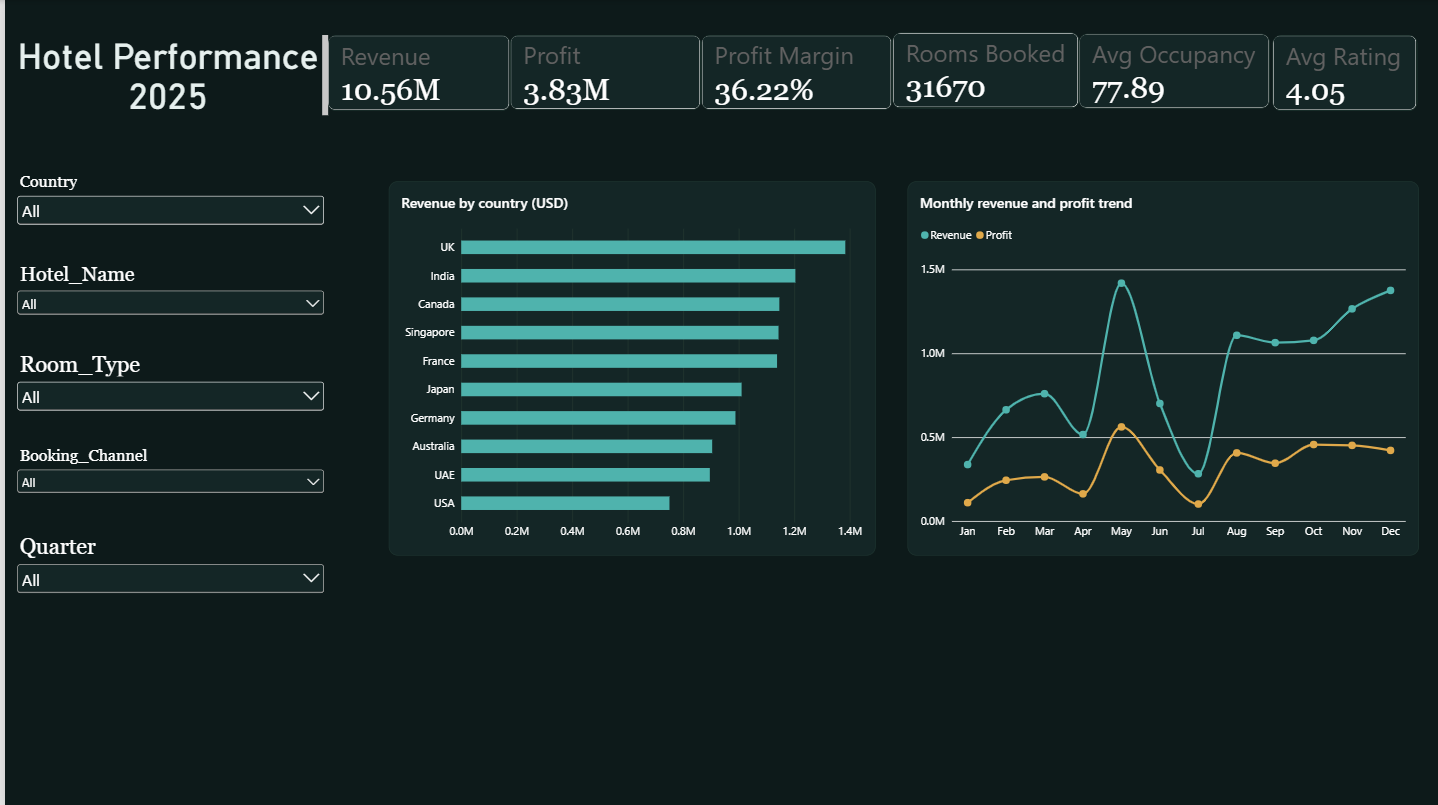

This screenshot's page, from the dashboard's own definition file:
{"tool":"powerbi","page":{"name":"Revenue overview","canvas":[1920,1080],"ordinal":0},"visuals":[{"type":"slicer","fields":{"Values":["Hotels.Country"]},"box":[10.9,229.8,419,97],"z":0},{"type":"slicer","fields":{"Values":["Hotels.Hotel_Name"]},"box":[10.9,351.1,419,97],"z":1000},{"type":"slicer","fields":{"Values":["Hotels.Room_Type"]},"box":[10.9,468.7,419,97],"z":2000},{"type":"slicer","fields":{"Values":["Hotels.Booking_Channel"]},"box":[10.9,595.4,419,97],"z":3000},{"type":"slicer","fields":{"Values":["Hotels.Quarter"]},"box":[10.9,713,419,97],"z":4000},{"type":"cardVisual","fields":{"Data":["Hotels.Total Revenue"]},"box":[430.7,47.1,244.3,101.3],"z":5000},{"type":"cardVisual","fields":{"Data":["Hotels.Total Profit"]},"box":[675,47.1,255,100],"z":6000},{"type":"cardVisual","fields":{"Data":["Hotels.Profit Margin"]},"box":[930.2,47.1,255,100],"z":7000},{"type":"cardVisual","fields":{"Data":["Hotels.Rooms Booked"]},"box":[1185.3,43.4,249.7,101.3],"z":8000},{"type":"cardVisual","fields":{"Data":["Hotels.Avg Occupancy"]},"box":[1435.1,45.2,255,100],"z":9000},{"type":"cardVisual","fields":{"Data":["Hotels.Avg Rating"]},"box":[1693.8,47.1,193.6,101.3],"z":10000},{"type":"clusteredBarChart","title":"Revenue by country (USD)","fields":{"Category":["Hotels.Country"],"Y":["Hotels.Total Revenue"]},"box":[512.1,242.5,650,500],"z":11000},{"type":"lineChart","title":"Monthly revenue and profit trend","fields":{"Category":["Hotels.Month_Name"],"Y":["Hotels.Total Revenue","Hotels.Total Profit"]},"box":[1205.2,242.5,683,500],"z":12000},{"type":"textbox","box":[10.9,47.1,419.8,117.6],"z":12001}]}

Visuals, with their boxes in screenshot pixels (x1, y1, x2, y2), scaled from the page's 1920x1080 canvas onto the 1438x805 screenshot:
slicer - Hotels.Country: detection(8, 171, 322, 244)
slicer - Hotels.Hotel_Name: detection(8, 262, 322, 334)
slicer - Hotels.Room_Type: detection(8, 349, 322, 422)
slicer - Hotels.Booking_Channel: detection(8, 444, 322, 516)
slicer - Hotels.Quarter: detection(8, 531, 322, 604)
cardVisual - Hotels.Total Revenue: detection(323, 35, 506, 111)
cardVisual - Hotels.Total Profit: detection(506, 35, 697, 110)
cardVisual - Hotels.Profit Margin: detection(697, 35, 888, 110)
cardVisual - Hotels.Rooms Booked: detection(888, 32, 1075, 108)
cardVisual - Hotels.Avg Occupancy: detection(1075, 34, 1266, 108)
cardVisual - Hotels.Avg Rating: detection(1269, 35, 1414, 111)
"Revenue by country (USD)" clusteredBarChart: detection(384, 181, 870, 553)
"Monthly revenue and profit trend" lineChart: detection(903, 181, 1414, 553)
textbox: detection(8, 35, 323, 123)
